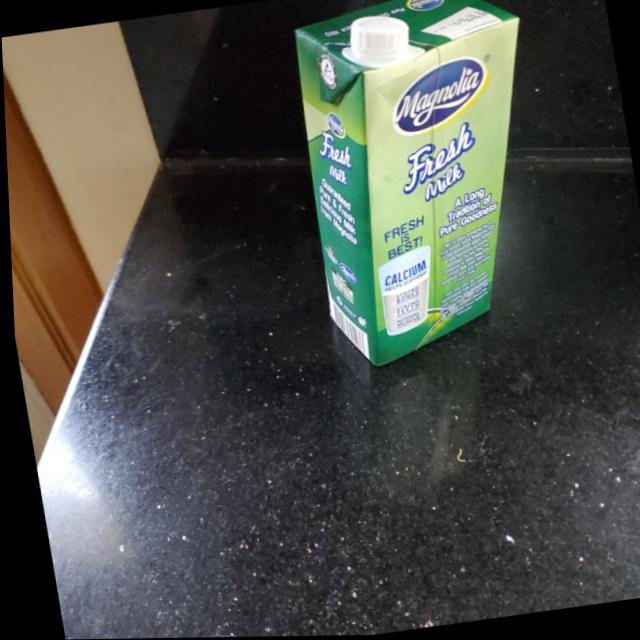milk: (279, 0, 571, 368)
